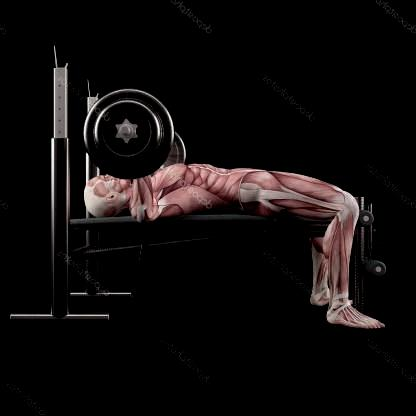Barbell: (114, 119, 134, 138)
